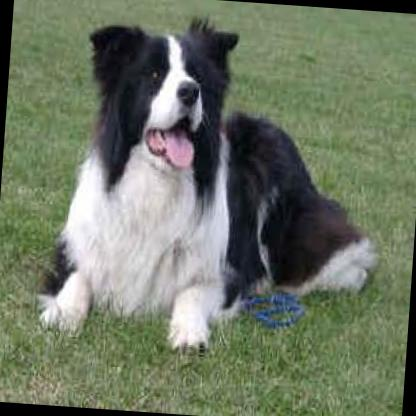collie: (30, 6, 394, 368)
